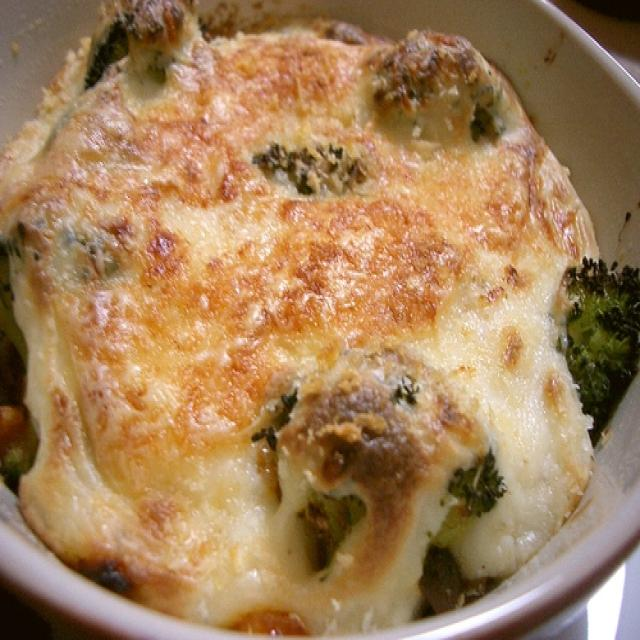米饭主食: (34, 31, 592, 604)
